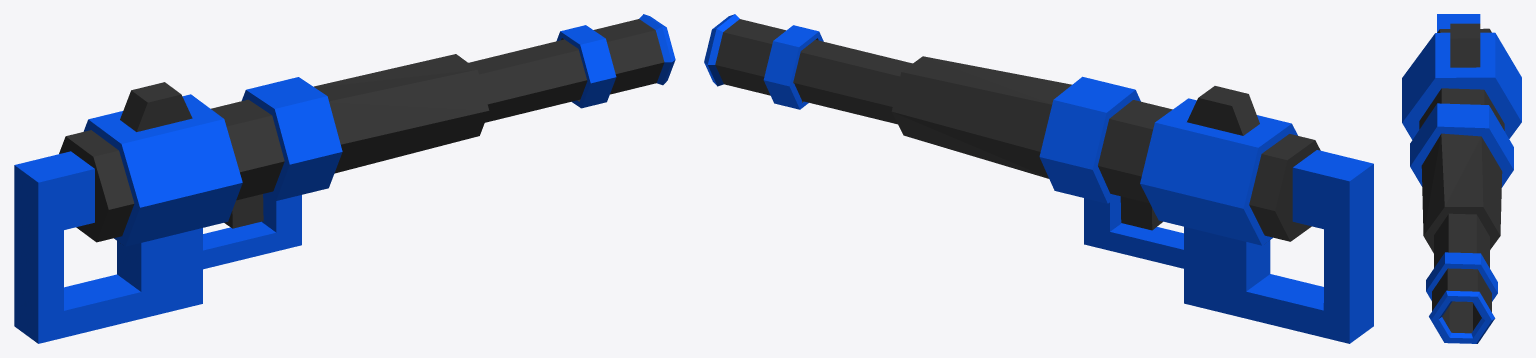
Rendered from bazoka2.fbx.
The picture shows the model from 3 angles, left to right: view 1: azimuth 30°, elevation 25°; view 2: azimuth 150°, elevation 25°; view 3: azimuth 270°, elevation 25°; orthographic projection. The views are drawn at different scales.
Visible parts, largest first — view 1: bazoka2; view 2: bazoka2; view 3: bazoka2.
Boxes of the visible parts, x1=… form: bazoka2: x1=14, y1=14, x2=675, y2=343; bazoka2: x1=704, y1=14, x2=1373, y2=343; bazoka2: x1=1402, y1=14, x2=1521, y2=343.
Bounding box in the file's own units: 6.92 × 2.16 × 1.26.
Materials: 1 (1 with a texture image).
